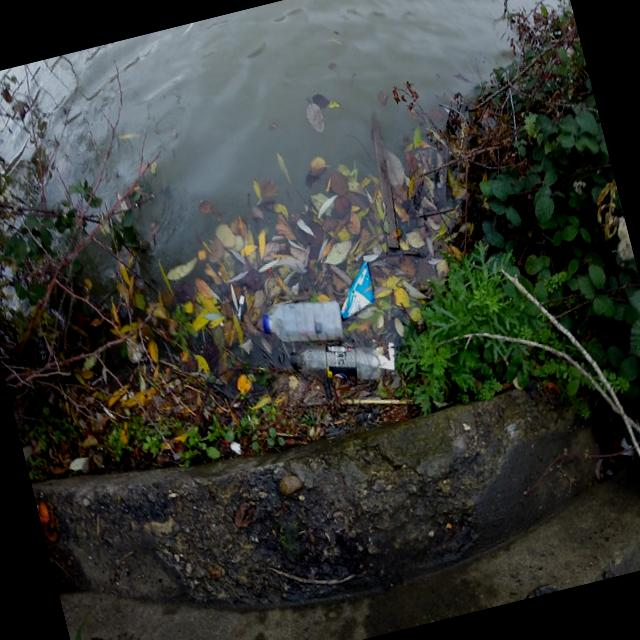Recycle: (288, 330, 384, 398), (258, 288, 348, 356)
Trash: (330, 257, 379, 316)
